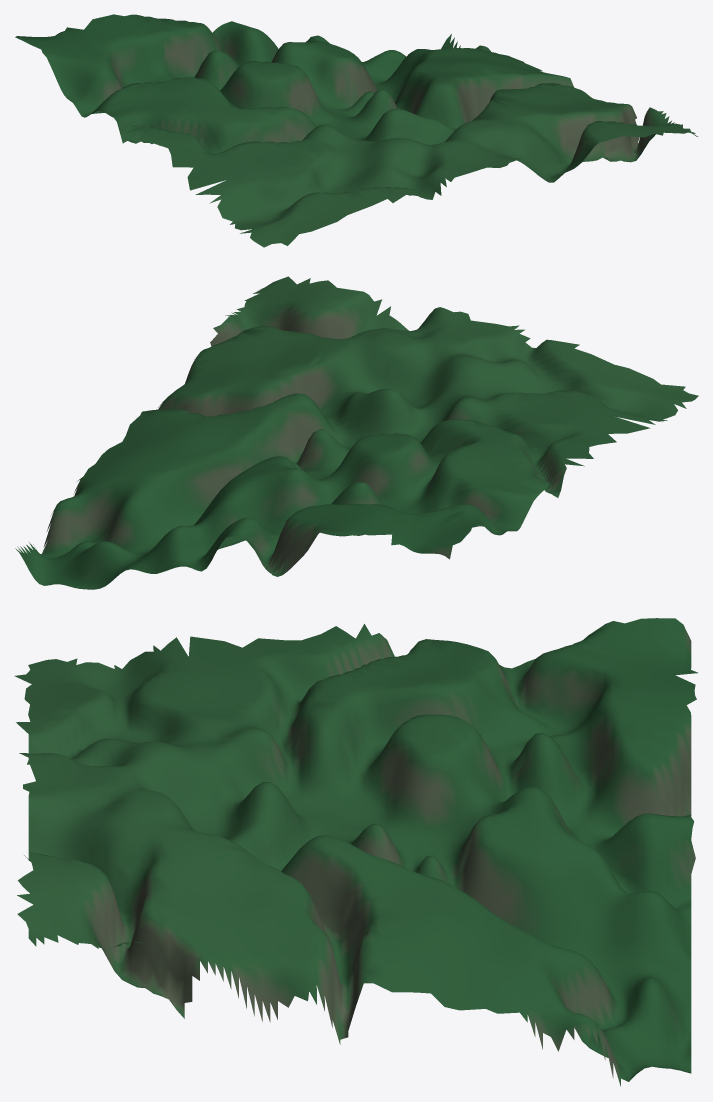
File: payo_land_xm1_y6.glb
The picture shows the model from 3 angles, top to bottom: view 1: azimuth 30°, elevation 25°; view 2: azimuth 150°, elevation 25°; view 3: azimuth 270°, elevation 25°; orthographic projection. The views are drawn at different scales.
Visible parts, largest first — view 1: payo_land_xm1_y6; view 2: payo_land_xm1_y6; view 3: payo_land_xm1_y6.
Part boxes in pixels (box(x1,y1,x2,y2)): payo_land_xm1_y6: box(15, 14, 697, 247); payo_land_xm1_y6: box(15, 276, 698, 589); payo_land_xm1_y6: box(14, 618, 697, 1086).
Bounding box in the file's own units: 266 × 79.56 × 264.
